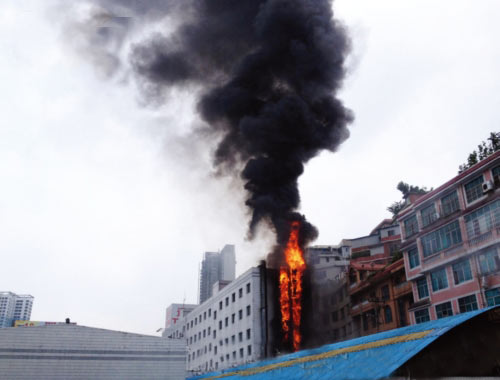fire: (275, 216, 313, 329)
